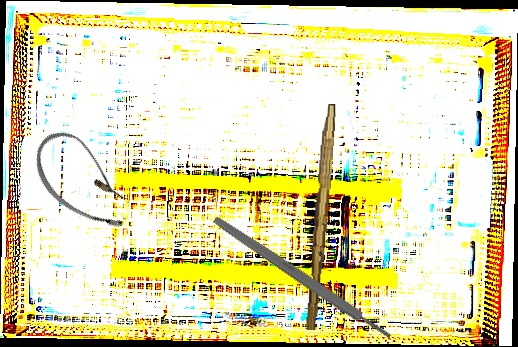Cannula: (19, 121, 149, 241)
Scalpel Handle: (211, 214, 394, 342), (304, 103, 337, 331)
